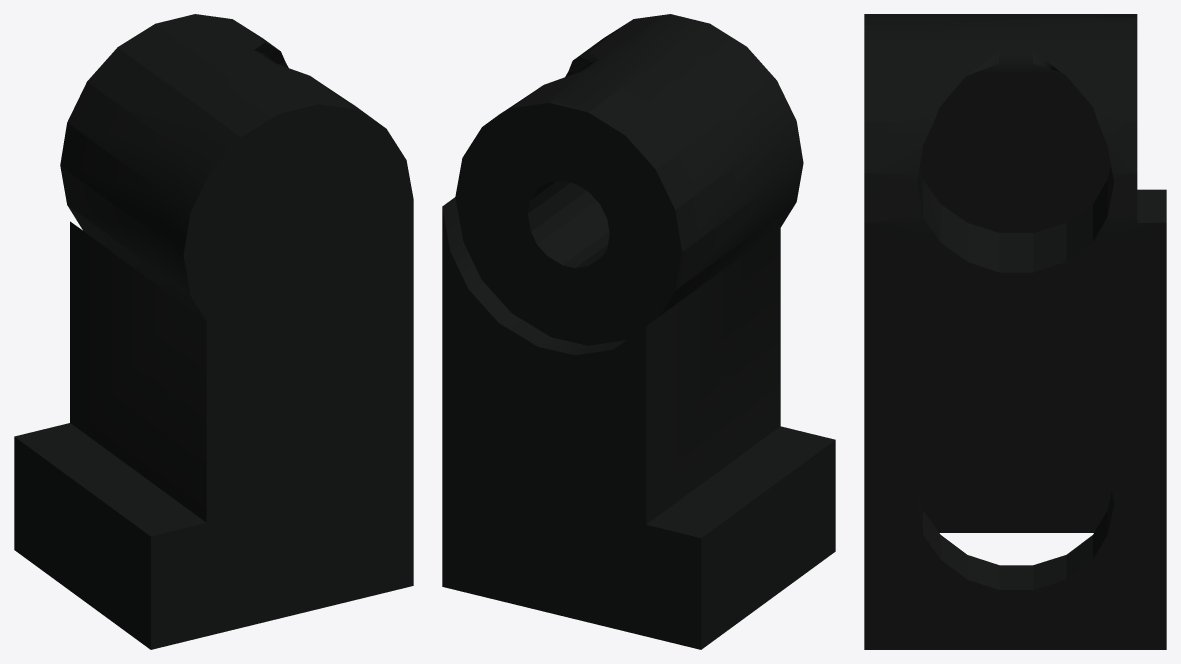
File: piernaiz.obj
The picture shows the model from 3 angles, left to right: view 1: azimuth 30°, elevation 25°; view 2: azimuth 150°, elevation 25°; view 3: azimuth 270°, elevation 25°; orthographic projection. The views are drawn at different scales.
Parts seen in each view (by area): view 1: Leg2; view 2: Leg2; view 3: Leg2.
Part boxes in pixels (x1,y1,x2,y2): Leg2: (14, 14, 413, 649); Leg2: (442, 14, 835, 649); Leg2: (864, 14, 1166, 649).
Bounding box in the file's own units: 20.32 × 37.29 × 18.29.
1 material, 1 textured.
